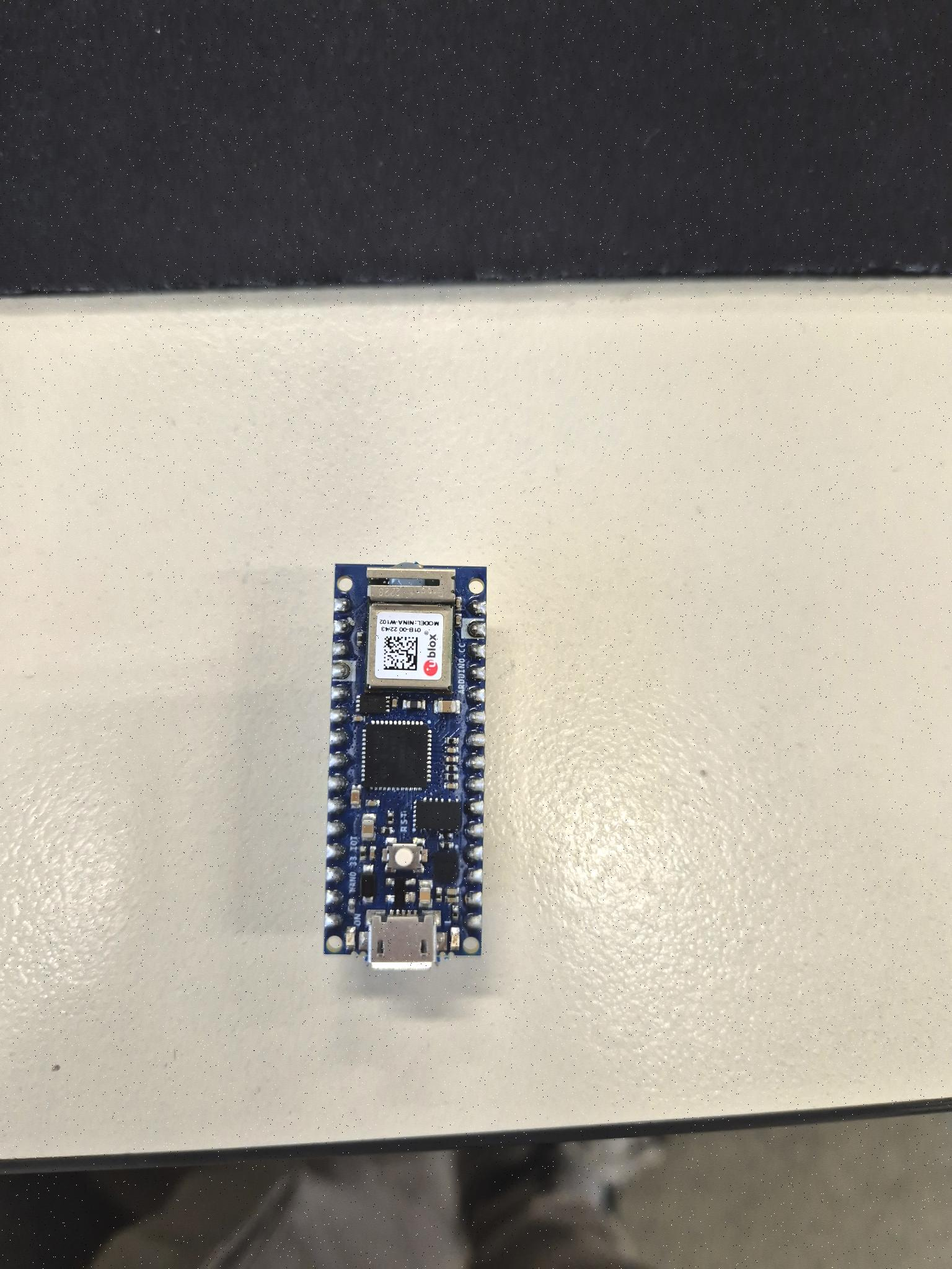arduino-nano-iot-33: (330, 555, 484, 960)
